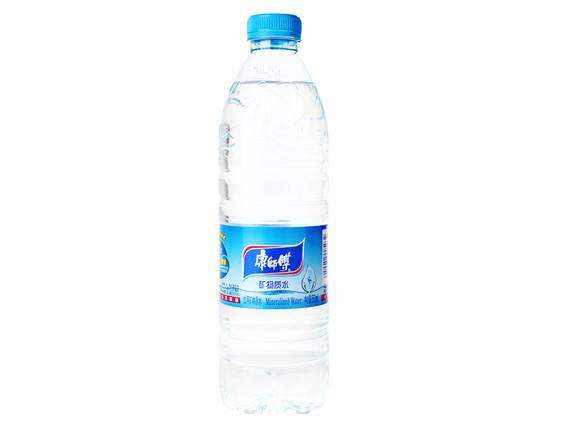amwater: (213, 1, 350, 417)
